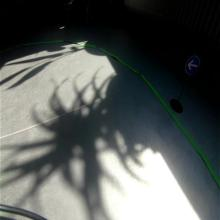left: (184, 55, 200, 75)
